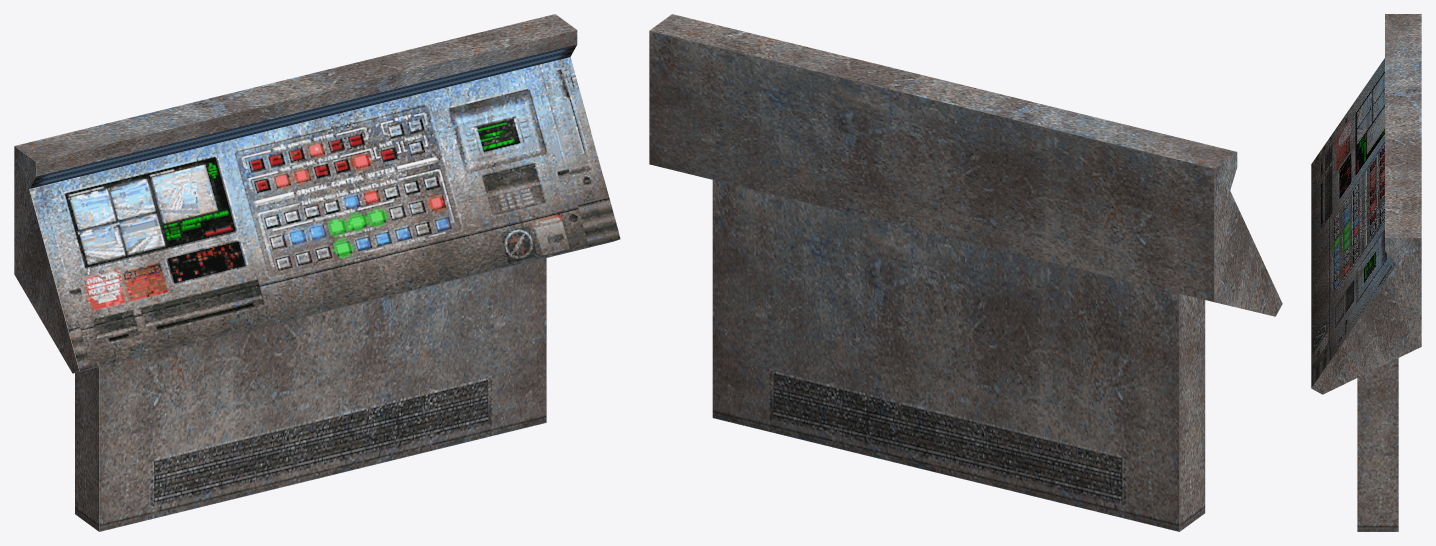
The model's file is Machine Control.fbx.
The picture shows the model from 3 angles, left to right: view 1: azimuth 30°, elevation 25°; view 2: azimuth 150°, elevation 25°; view 3: azimuth 270°, elevation 25°; orthographic projection. The views are drawn at different scales.
Visible parts, largest first — view 1: object_8; view 2: object_8; view 3: object_8.
Boxes of the visible parts, left/top/right/bottom form: object_8: left=14, top=14, right=620, bottom=531; object_8: left=649, top=14, right=1282, bottom=531; object_8: left=1311, top=14, right=1421, bottom=531.
Size of the model in its own units: 265 by 173 by 55.2.
